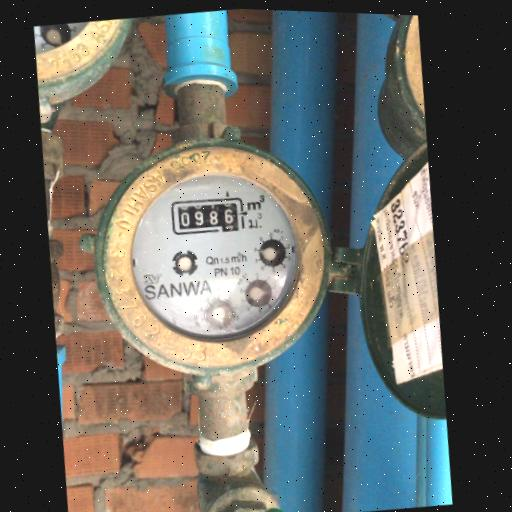0: (177, 205, 194, 229)
6: (219, 202, 239, 233)
8: (205, 204, 222, 228)
9: (189, 203, 207, 229)
border_water_meter_number: (168, 193, 250, 239)
